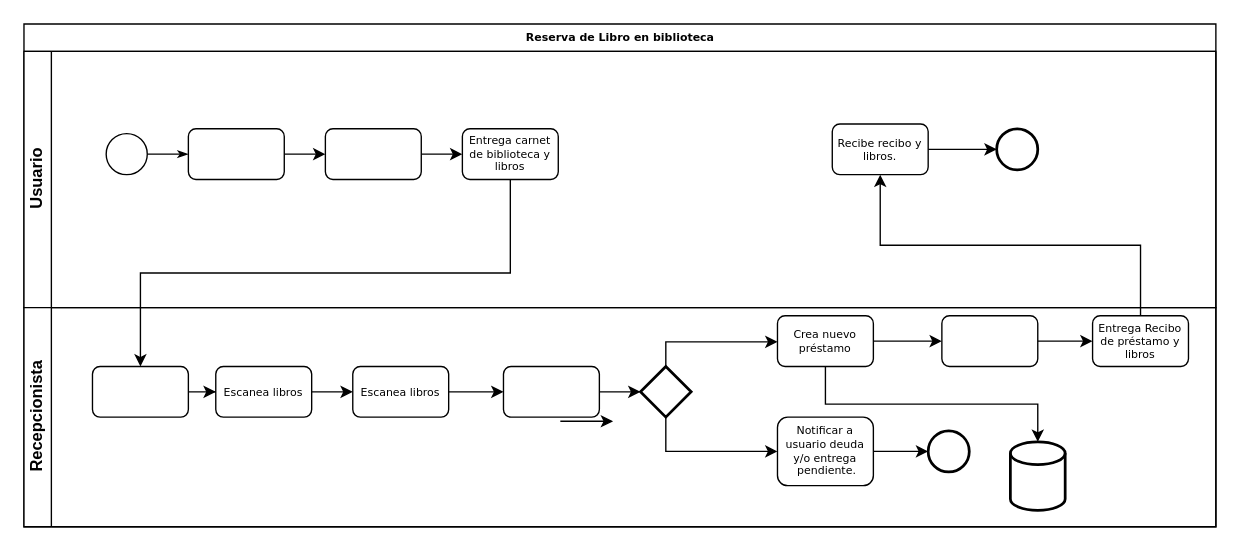
Image size: 1240x551. Some labels were removed from this diagram. Each missing label, with the centre of its shape:
Elige libro: [235,153]
Genera Recibo de Préstamo: [989,340]
Recibe libros seleccionados: [139,391]
Se acerrca a recepción: [372,153]
Verifica estado de usuario: [550,391]
